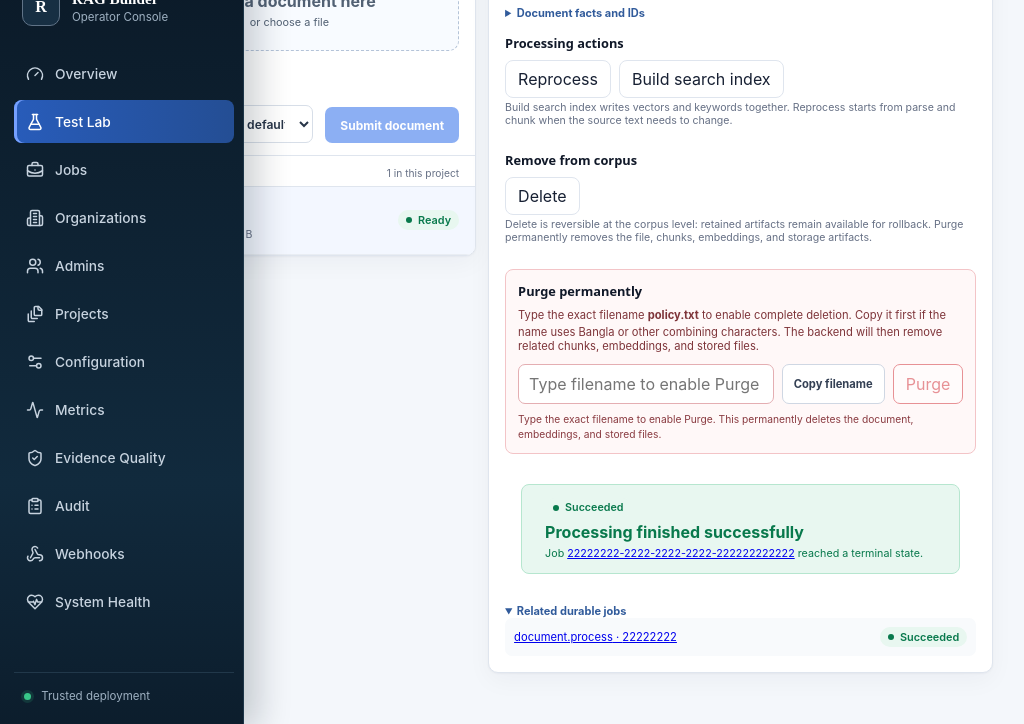
Test: requires the exact filename before enabling irreversible purge and shows API request facts
(page scrolled)
expect the button "Purge" is disabled: met, box [893, 364, 963, 404]
expect the text "Type the exact filename to enable Purge" is shown: met, box [518, 413, 914, 440]
Type "wrong.txt" into the field named "Purge confirmation" at [646, 384], box [518, 364, 774, 404]
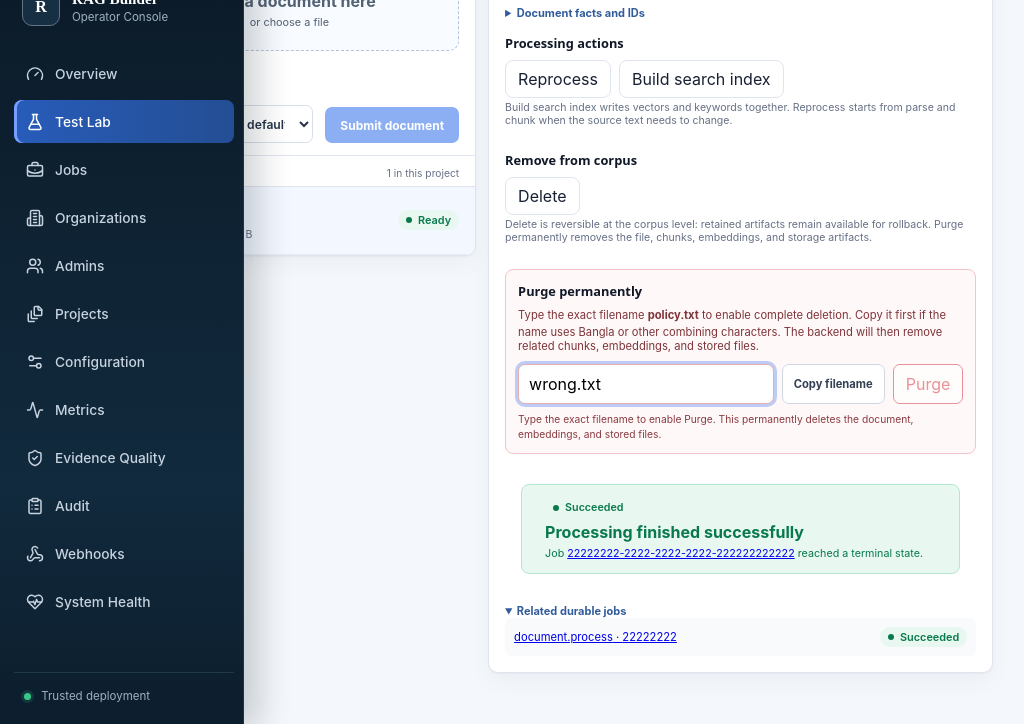
expect the button "Purge" is disabled: met, box [893, 364, 963, 404]
Replace the text in the field named "Purge confirmation" with "policy.txt" at [646, 384], box [518, 364, 774, 404]
(page scrolled)
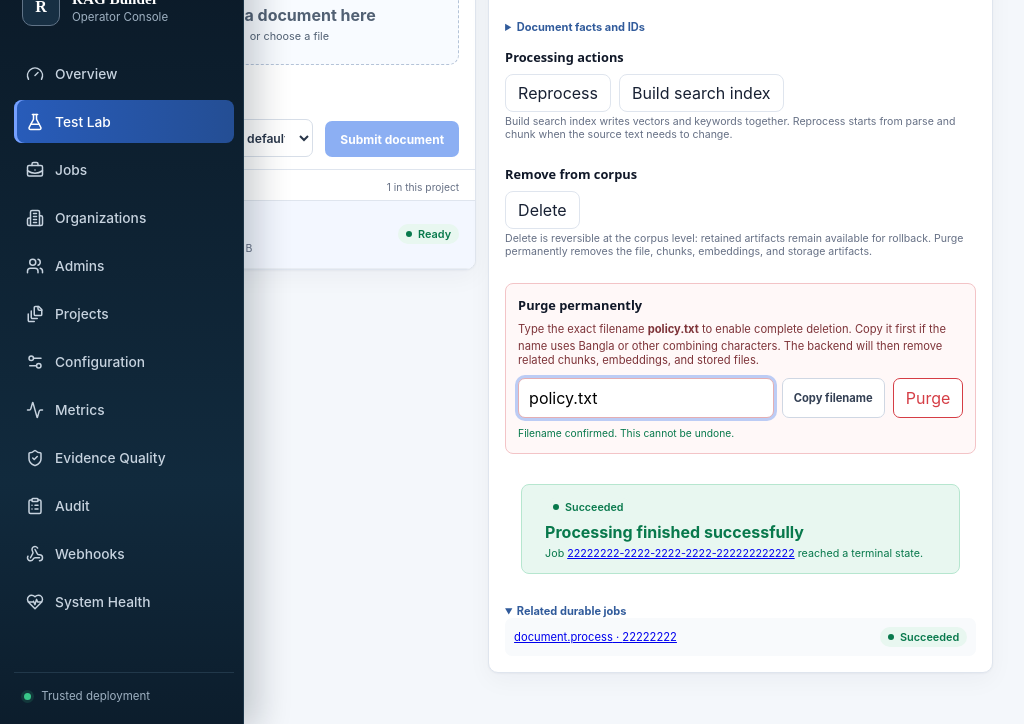
expect the button "Purge" is enabled: met
expect the text "Filename confirmed. This cannot be undone." is shown: met, box [518, 427, 734, 439]
Click the button "Purge" at [928, 398], box [893, 378, 963, 418]
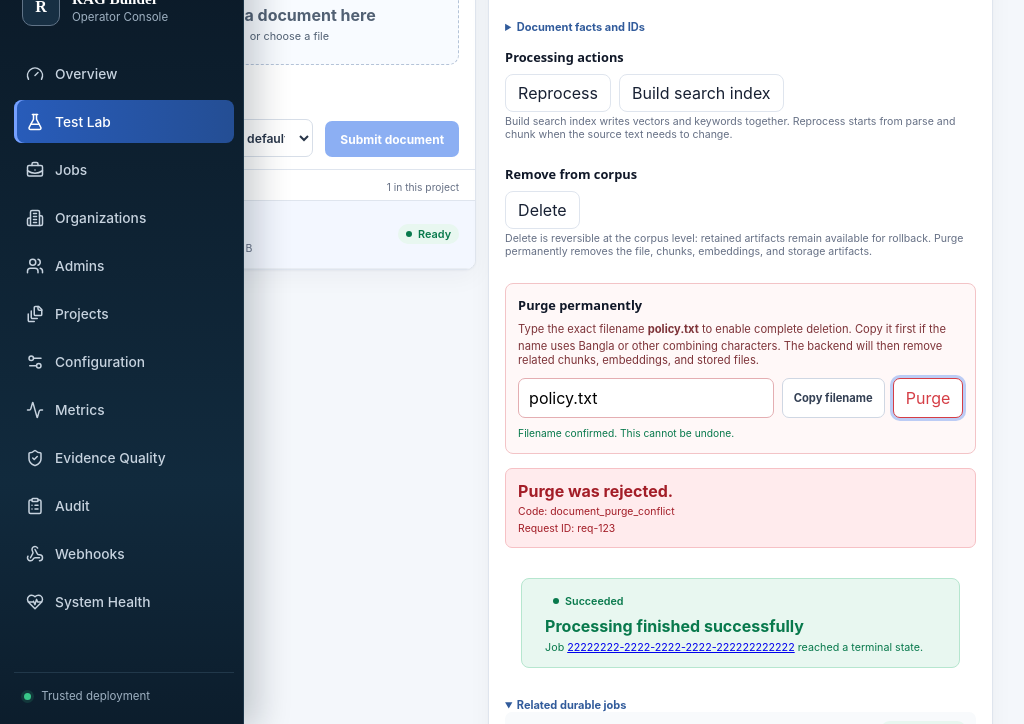
expect the text "Code: document_purge_conflict" is shown: met, box [518, 505, 675, 518]
expect the text "Request ID: req-123" is shown: met, box [518, 522, 615, 535]
